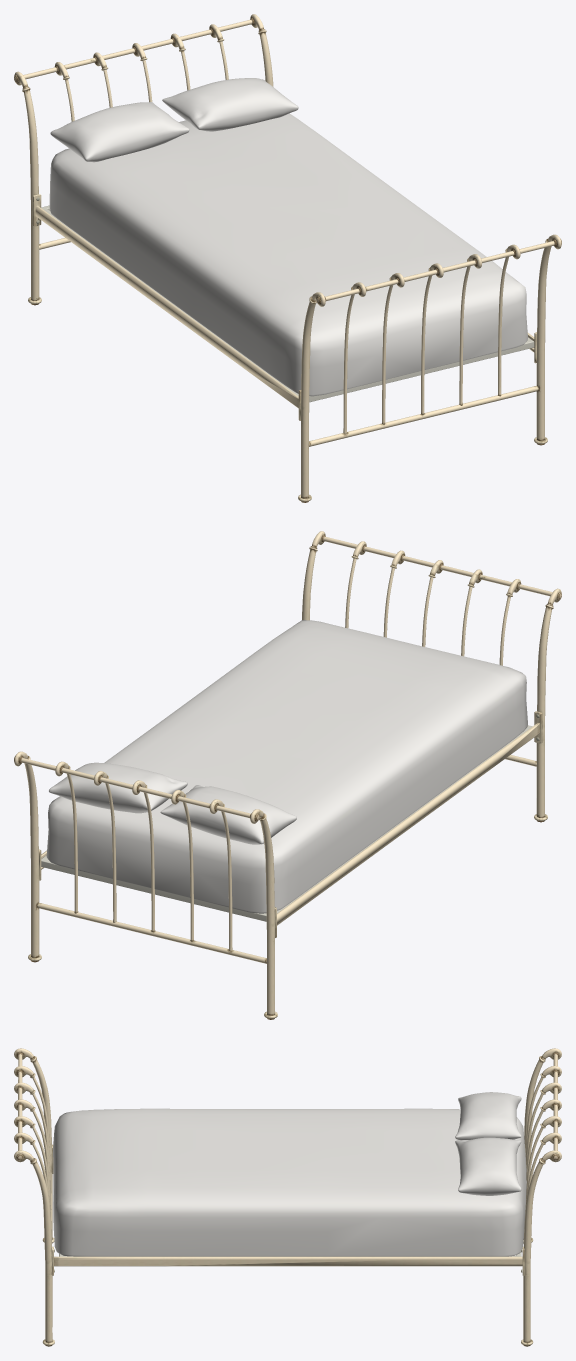
The model's file is B075QDV39J.glb.
3 views of the same model, one above another, from view 1: azimuth 30°, elevation 25°; view 2: azimuth 150°, elevation 25°; view 3: azimuth 270°, elevation 25° (orthographic). The views are drawn at different scales.
Visible parts, largest first — view 1: RootNode; view 2: RootNode; view 3: RootNode.
Part boxes in pixels (<box>): RootNode: <box>14,14,561,502</box>; RootNode: <box>14,531,561,1019</box>; RootNode: <box>14,1048,561,1346</box>.
Size of the model in its own units: 1.03 by 0.8724 by 2.23.
1 material, 1 textured.
